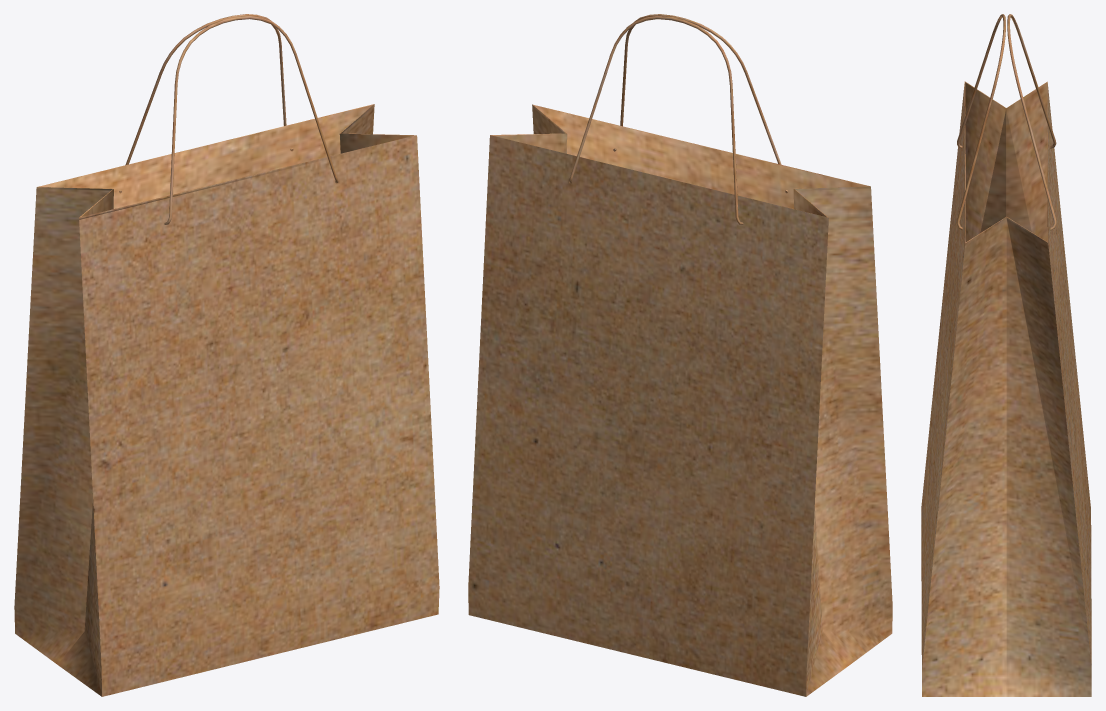
The model's file is Paper Bag.fbx.
3 renders of one model, left to right at view 1: azimuth 30°, elevation 25°; view 2: azimuth 150°, elevation 25°; view 3: azimuth 270°, elevation 25°, orthographic. The views are drawn at different scales.
Visible parts, largest first — view 1: Mesh; view 2: Mesh; view 3: Mesh.
Boxes of the visible parts, x1,y1,x2,y2 form: Mesh: (14, 14, 439, 696); Mesh: (468, 14, 892, 696); Mesh: (921, 14, 1091, 696).
Size of the model in its own units: 8.23 by 14.06 by 3.66.
Materials: 1 (1 with a texture image).
